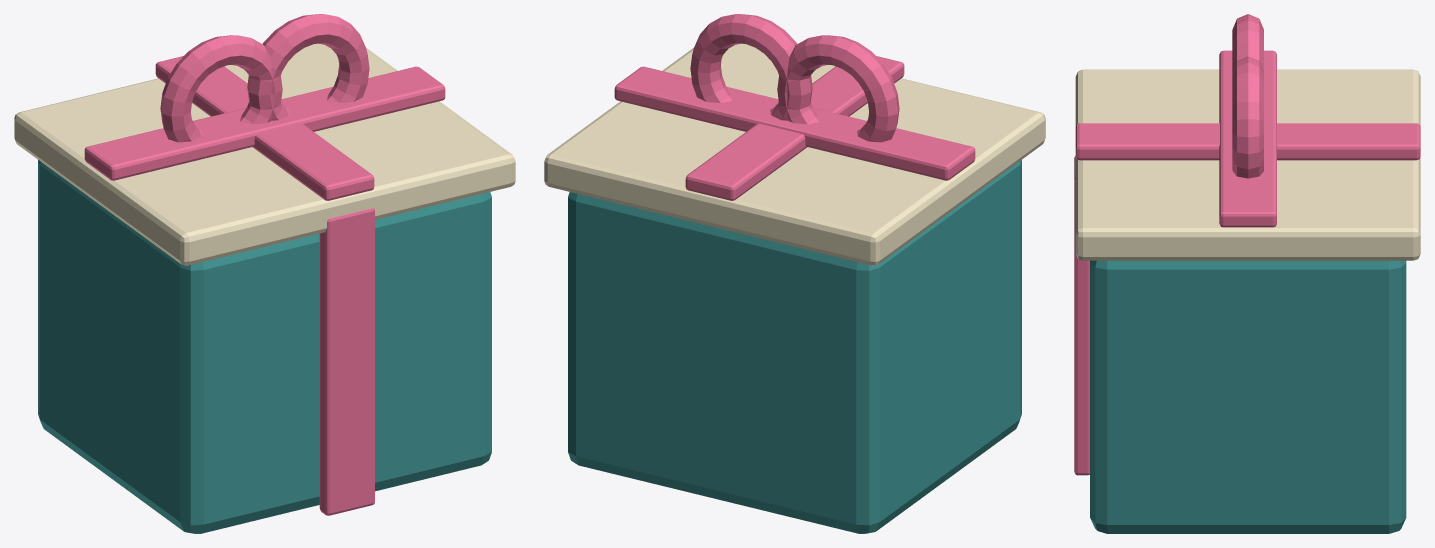
File: P009_ribbon_gift.glb
3 views of the same model, side by side, from view 1: azimuth 30°, elevation 25°; view 2: azimuth 150°, elevation 25°; view 3: azimuth 270°, elevation 25° (orthographic).
Parts seen in each view (by area): view 1: P009_gift_001, P009_lid_002, P009_ribbon_front_003, P009_ribbon_across_005, P009_ribbon_top_004, P009_bow_006, P009_bow_007; view 2: P009_gift_001, P009_lid_002, P009_ribbon_across_005, P009_ribbon_top_004, P009_bow_006, P009_bow_007; view 3: P009_gift_001, P009_lid_002, P009_ribbon_top_004, P009_ribbon_across_005, P009_bow_007, P009_ribbon_front_003, P009_bow_006.
Boxes of the visible parts, left/top/right/bottom form: P009_gift_001: left=38, top=160, right=491, bottom=533; P009_lid_002: left=14, top=43, right=515, bottom=265; P009_ribbon_front_003: left=319, top=208, right=374, bottom=515; P009_ribbon_across_005: left=84, top=66, right=445, bottom=180; P009_ribbon_top_004: left=155, top=56, right=374, bottom=200; P009_bow_006: left=160, top=35, right=282, bottom=142; P009_bow_007: left=247, top=14, right=369, bottom=120; P009_gift_001: left=568, top=160, right=1021, bottom=533; P009_lid_002: left=544, top=43, right=1045, bottom=265; P009_ribbon_across_005: left=614, top=66, right=975, bottom=180; P009_ribbon_top_004: left=685, top=56, right=904, bottom=200; P009_bow_006: left=777, top=35, right=899, bottom=142; P009_bow_007: left=690, top=14, right=812, bottom=120; P009_gift_001: left=1090, top=260, right=1406, bottom=533; P009_lid_002: left=1075, top=69, right=1420, bottom=260; P009_ribbon_top_004: left=1075, top=123, right=1420, bottom=160; P009_ribbon_across_005: left=1219, top=50, right=1276, bottom=227; P009_bow_007: left=1232, top=56, right=1263, bottom=178; P009_ribbon_front_003: left=1074, top=156, right=1089, bottom=475; P009_bow_006: left=1232, top=14, right=1263, bottom=71.
Bounding box in the file's own units: 0.27 × 0.325 × 0.241.
